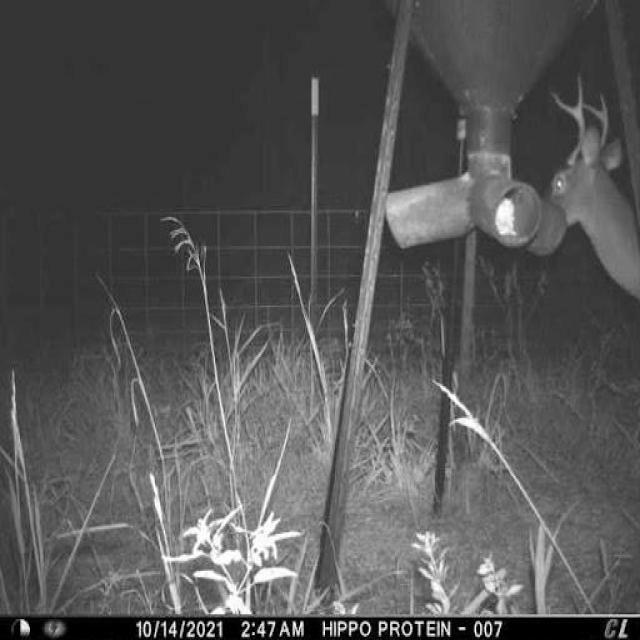Deer: (542, 66, 638, 312)
